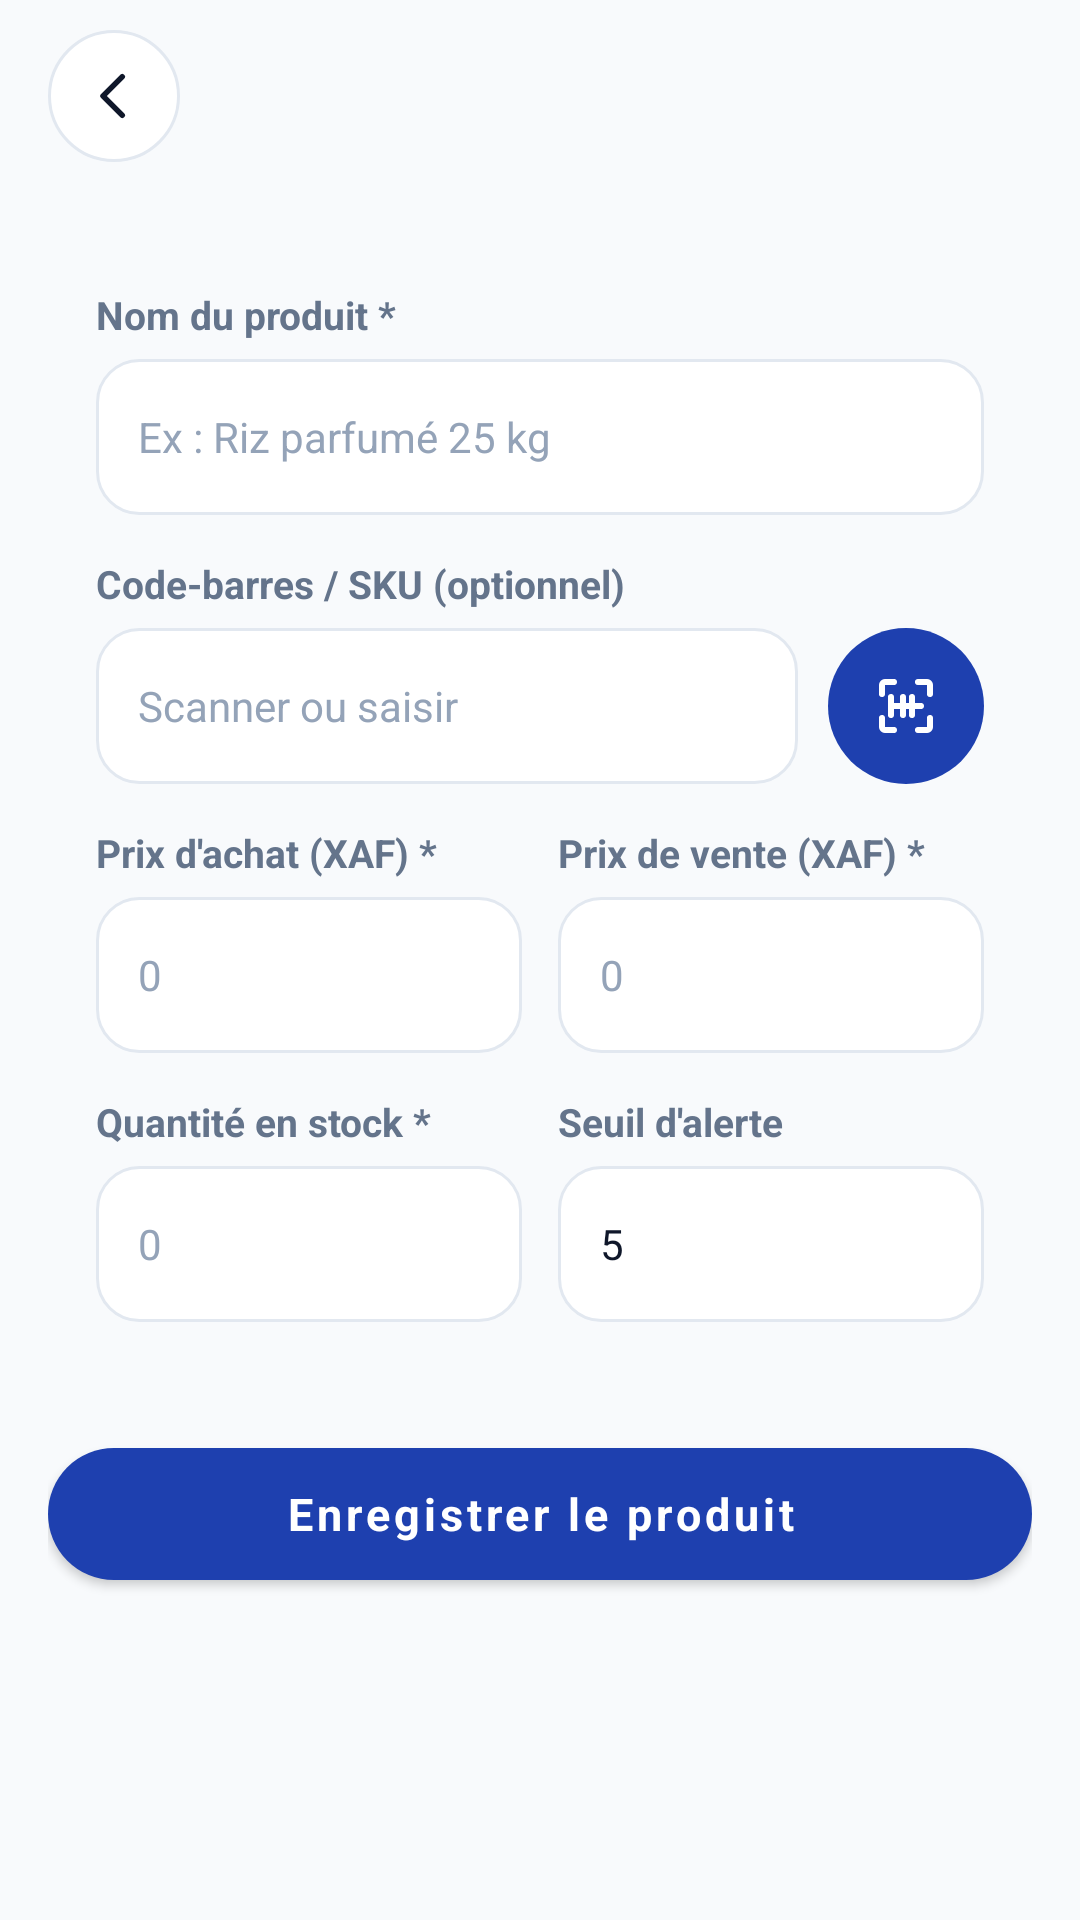

Locate icon controls on the screen. Image size 1080 x 1920, boxes as (x1, y1, x2, y2).
Retour: (100, 74, 125, 118)
